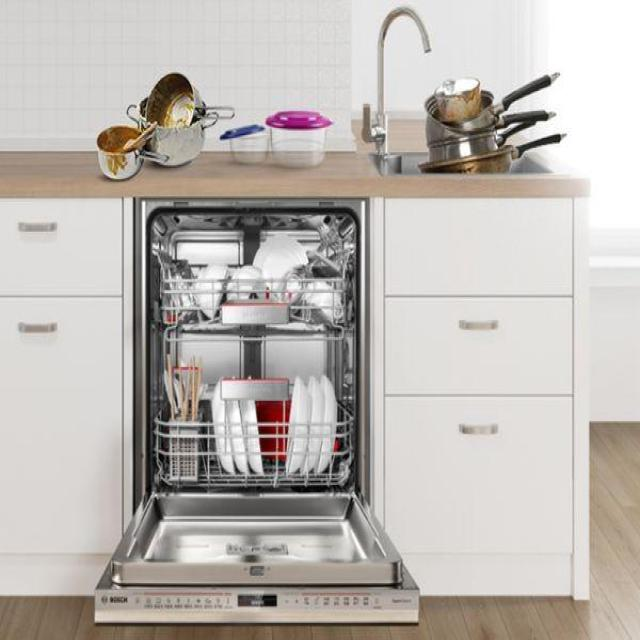dishwasher: (92, 197, 423, 626)
